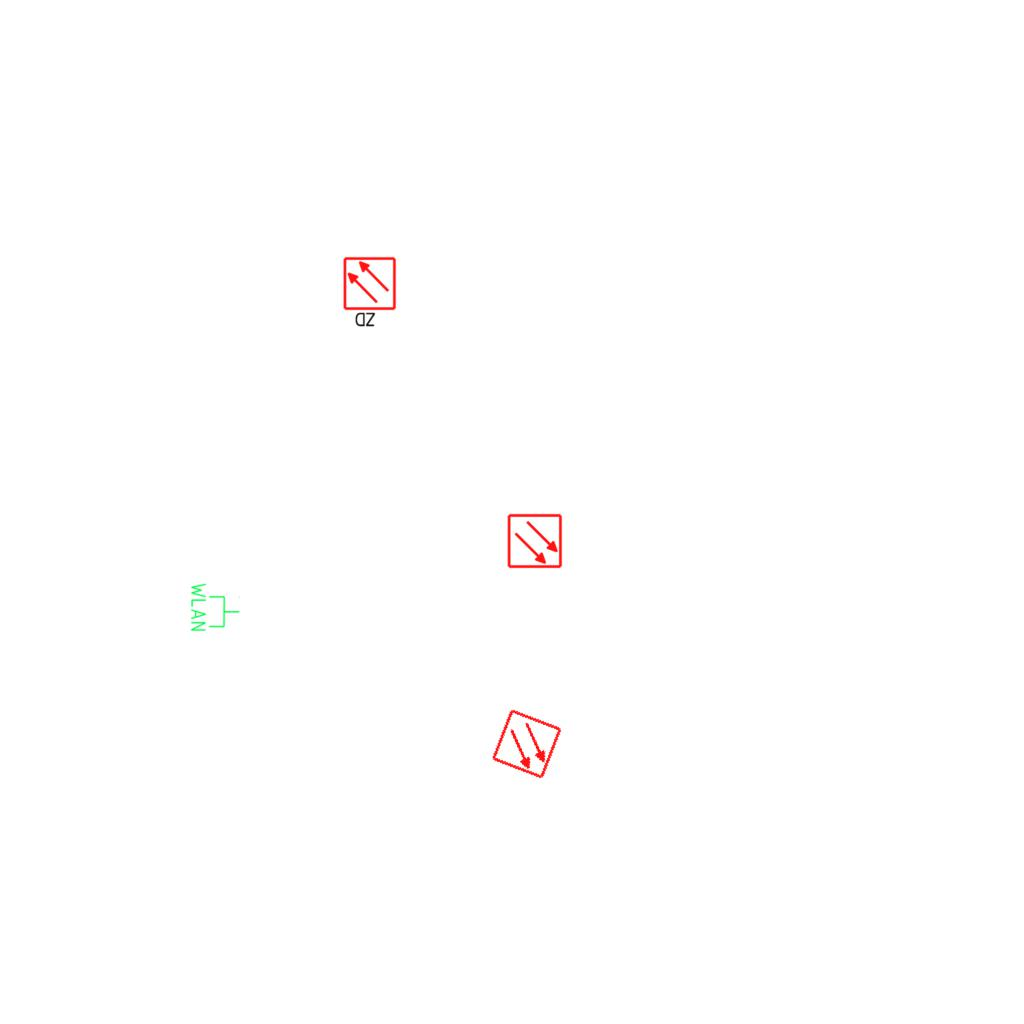RMO_Rauchmelder_optischer: (490, 707, 564, 781), (507, 513, 563, 569)
WLAN: (189, 581, 241, 633)
ZD_Melder_in_Zwischendecke_mit_Revisionsoeffnung_mind_40_x_40_cm: (342, 256, 399, 330)
